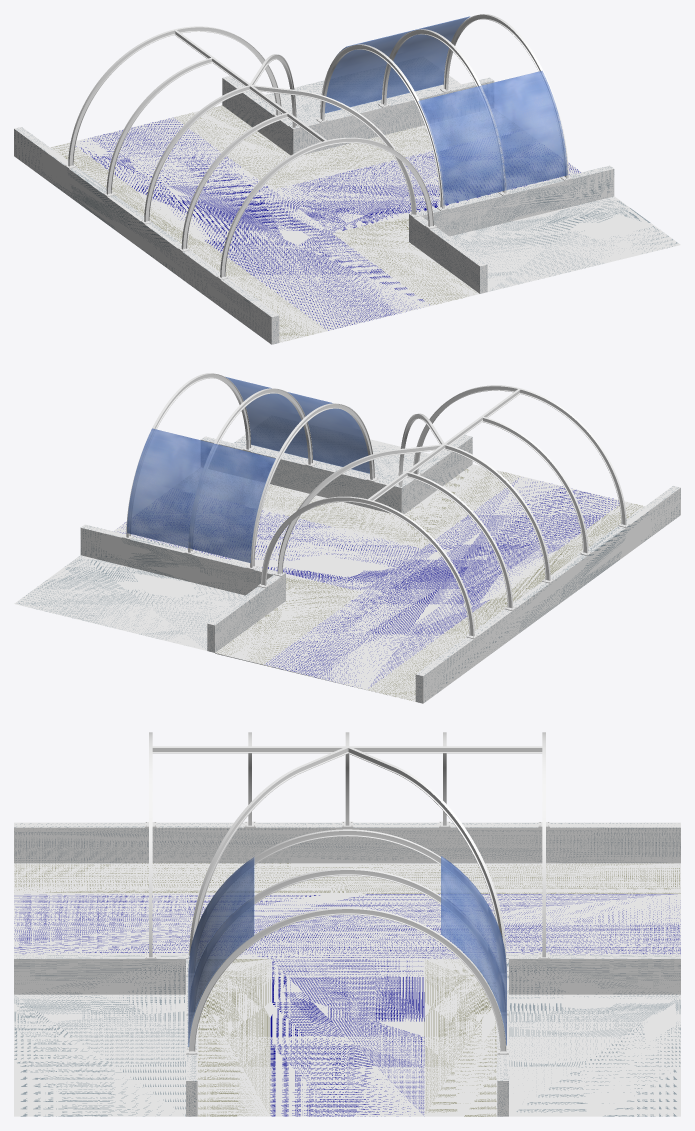
3 renders of one model, top to bottom at view 1: azimuth 30°, elevation 25°; view 2: azimuth 150°, elevation 25°; view 3: azimuth 270°, elevation 25°, orthographic. The views are drawn at different scales.
Visible parts, largest first — view 1: SketchUp (×7), lastra-vetro-curva (×8), Component_3 (×5), Component_4 (×3), Component_8 (×2), ipe80; view 2: SketchUp (×7), lastra-vetro-curva (×8), Component_3 (×5), Component_4 (×3), Component_8 (×2), ipe80; view 3: SketchUp (×7), lastra-vetro-curva (×8), Component_3 (×5), Component_8 (×2), ipe80.
Part boxes in pixels (box(x1,y1,x2,y2)): SketchUp (×7): box(14, 57, 680, 344); lastra-vetro-curva (×8): box(325, 16, 567, 205); Component_3 (×5): box(68, 14, 568, 277); Component_4 (×3): box(106, 58, 287, 249); Component_8 (×2): box(249, 54, 416, 214); ipe80: box(174, 30, 326, 141); SketchUp (×7): box(14, 416, 680, 703); lastra-vetro-curva (×8): box(127, 377, 369, 562); Component_3 (×5): box(126, 373, 626, 636); Component_4 (×3): box(407, 416, 588, 608); Component_8 (×2): box(277, 413, 444, 574); ipe80: box(368, 389, 520, 500); SketchUp (×7): box(14, 822, 680, 1116); lastra-vetro-curva (×8): box(188, 856, 506, 1046); Component_3 (×5): box(149, 732, 545, 1051); Component_8 (×2): box(189, 746, 506, 955); ipe80: box(152, 746, 542, 753).
Size of the model in its own units: 313 by 341 by 102.
Materials: 7 (1 with a texture image).
